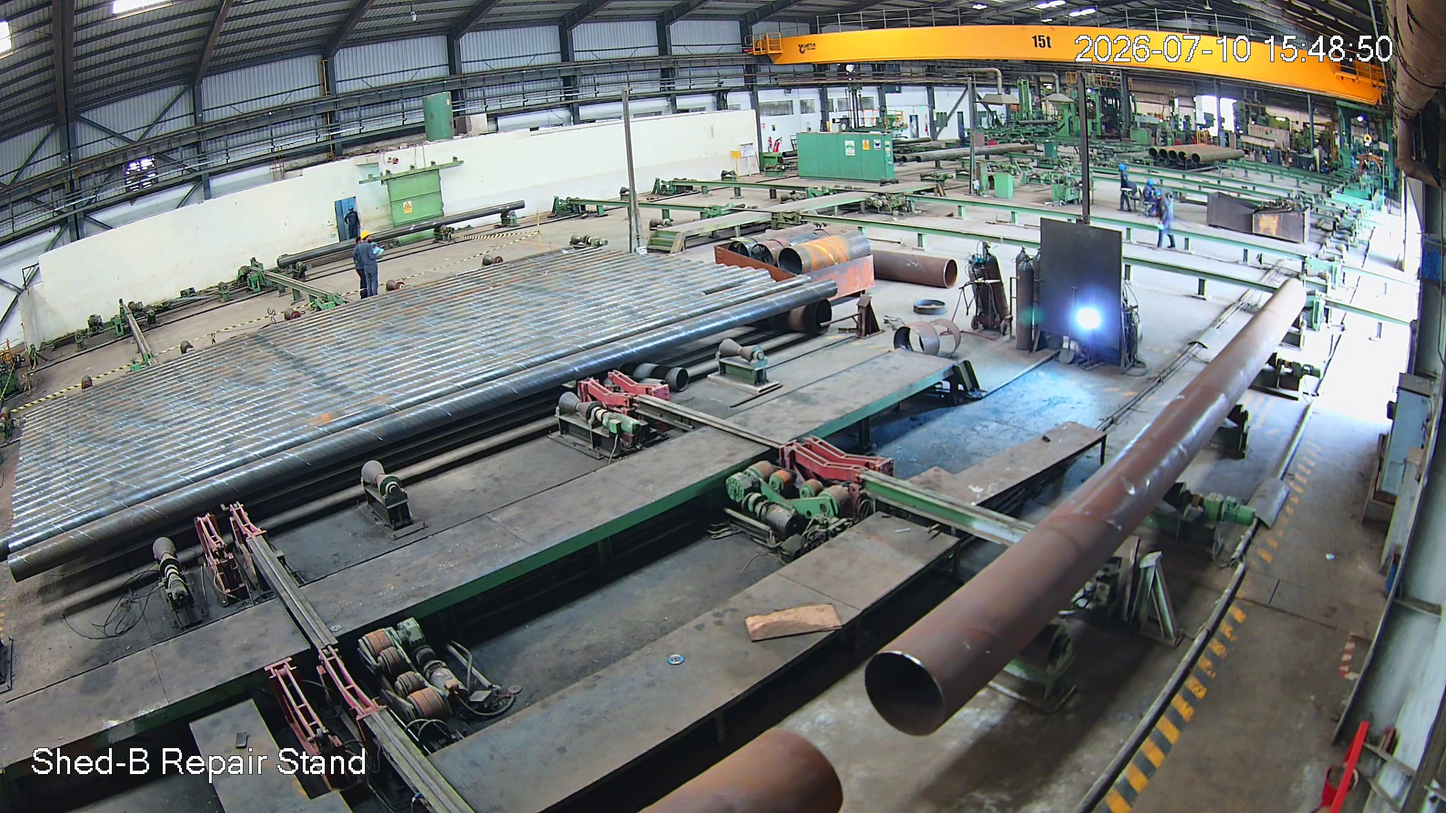Helmet: (359, 230, 376, 251)
Person: (357, 233, 382, 297)
